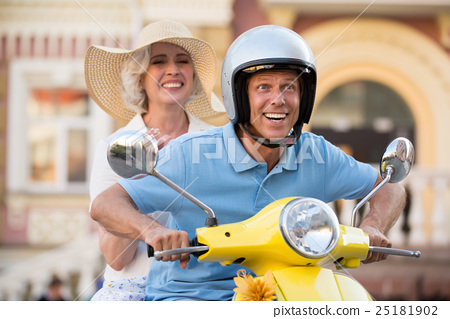helmet: (218, 26, 332, 122)
